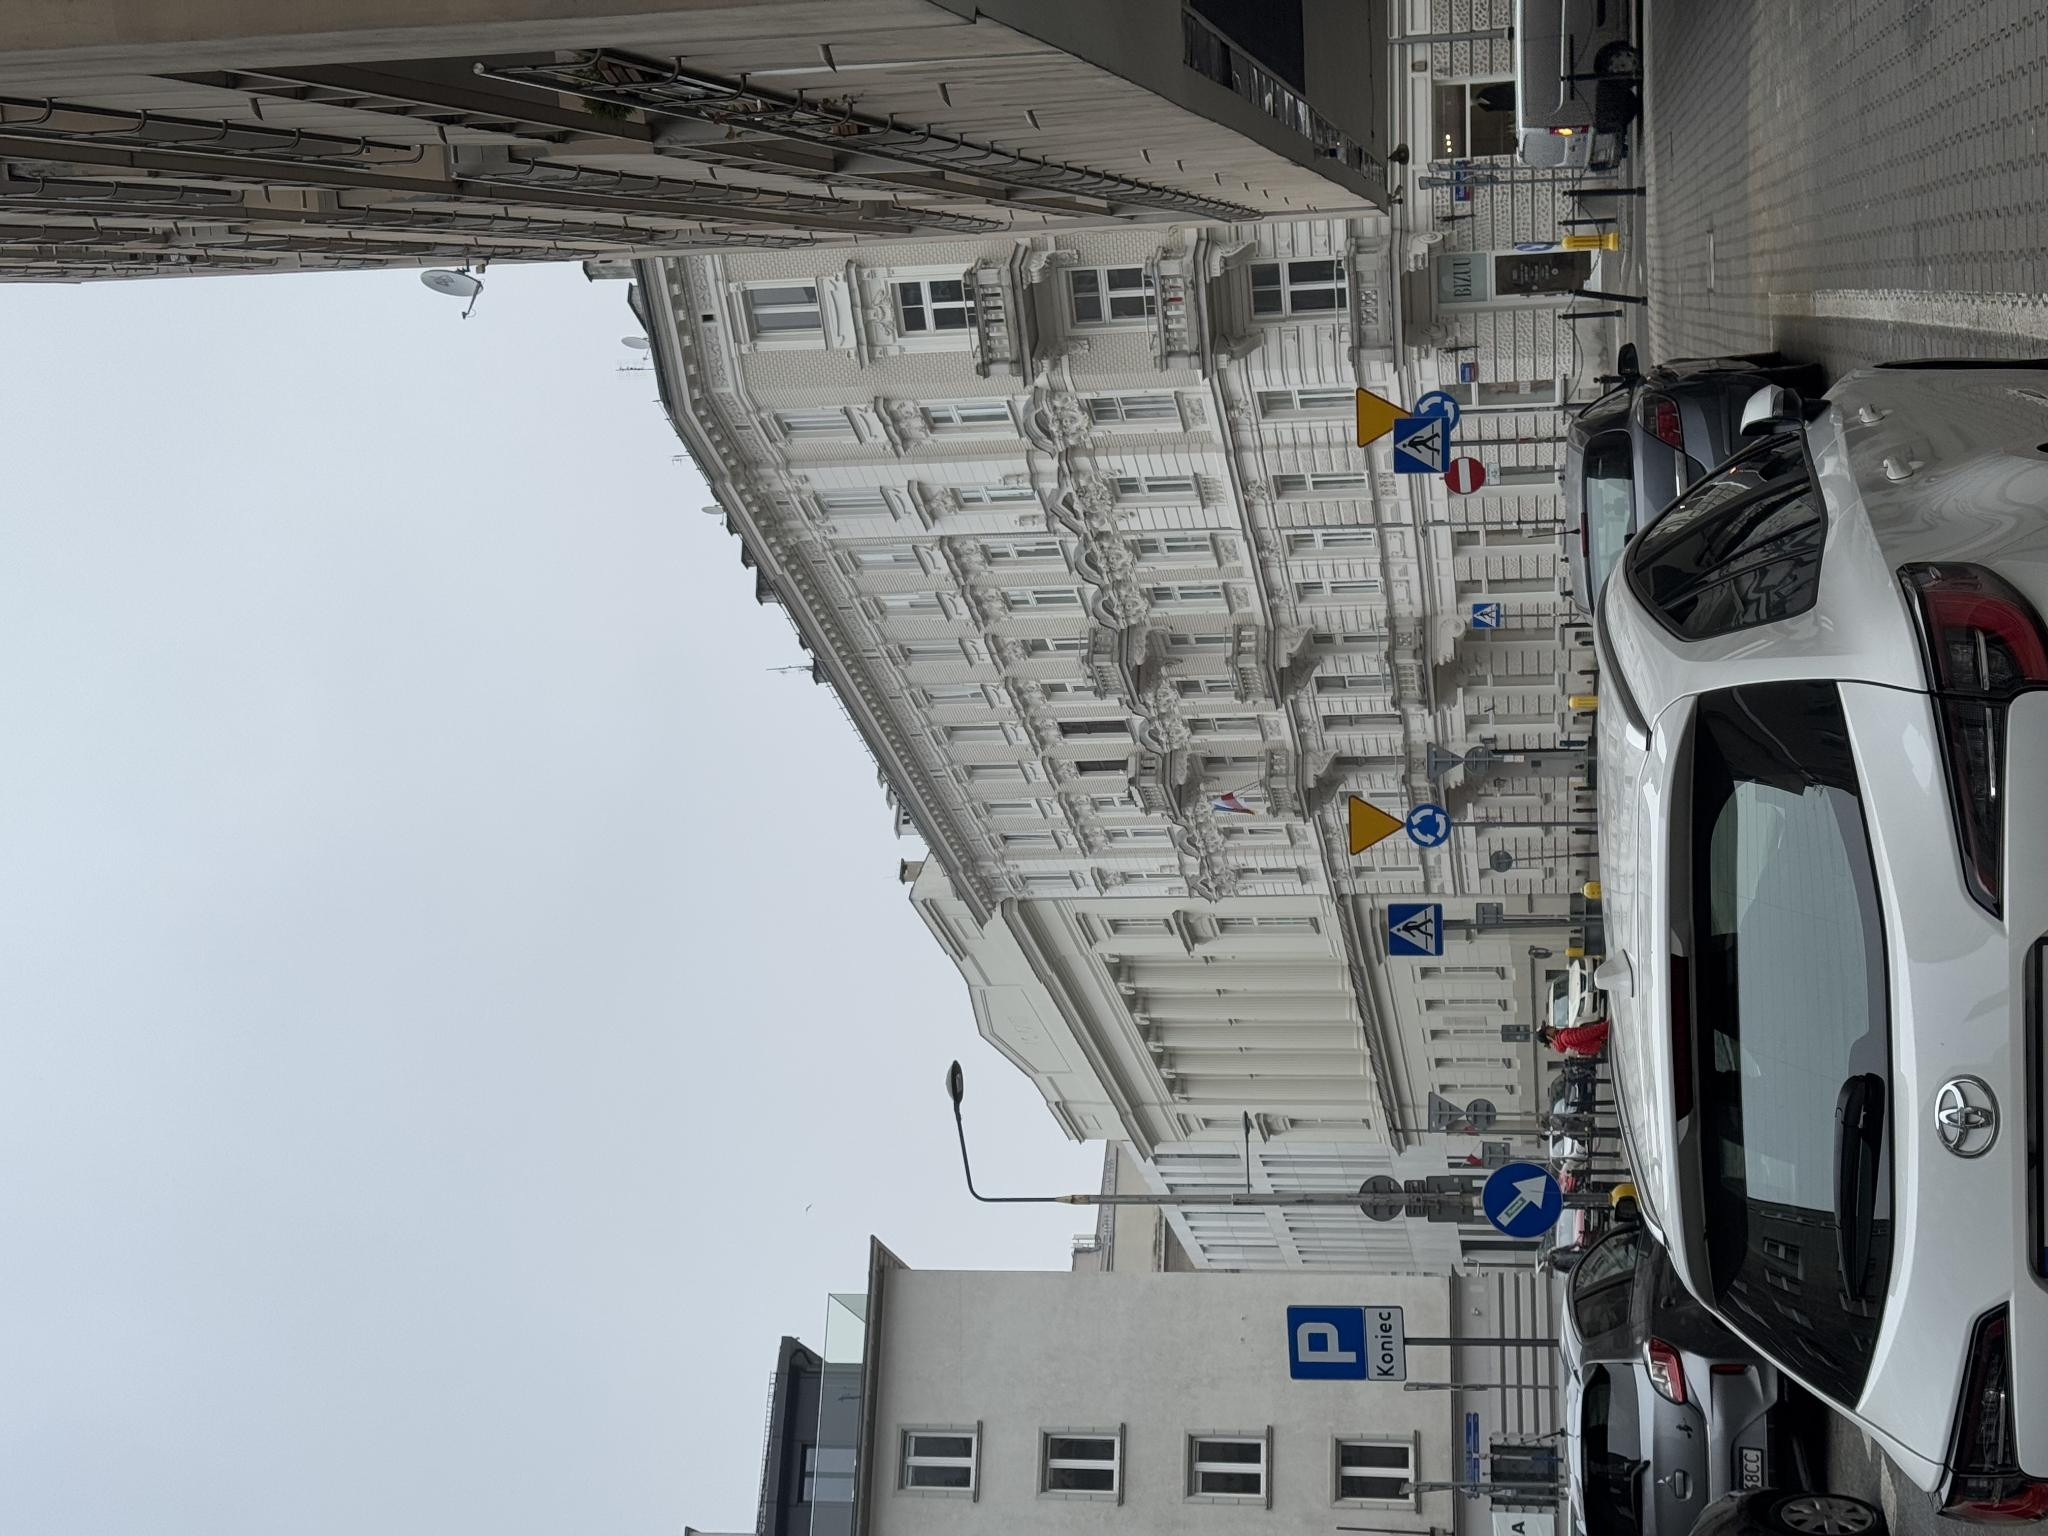information: (155, 1284, 232, 1365), (1063, 1392, 1121, 1449), (579, 1386, 634, 1444), (908, 1471, 934, 1501)
mandatory: (297, 1481, 376, 1536), (687, 1405, 734, 1452), (1121, 1412, 1147, 1460), (1284, 1515, 1293, 1536)
other: (155, 1367, 232, 1405)
prohibitory: (1042, 1444, 1080, 1486)
warning: (1089, 1355, 1150, 1413), (681, 1349, 742, 1405)
